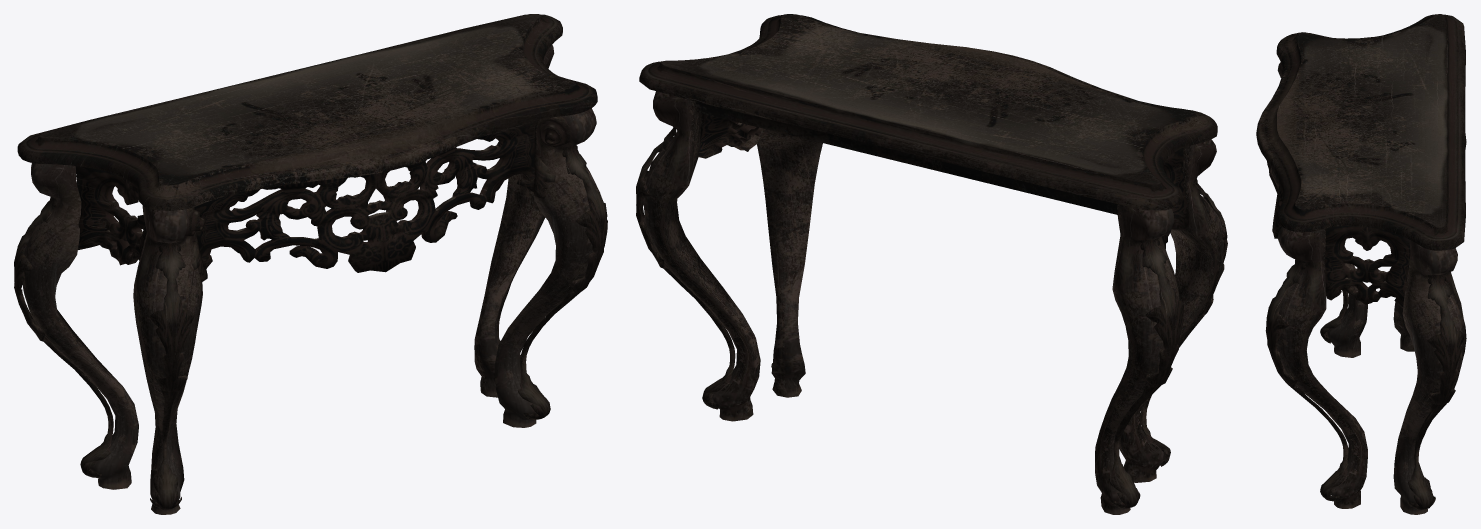
Rendered from ClassicConsole_01_2k.fbx.
The picture shows the model from 3 angles, left to right: view 1: azimuth 30°, elevation 25°; view 2: azimuth 150°, elevation 25°; view 3: azimuth 270°, elevation 25°; orthographic projection. The views are drawn at different scales.
Visible parts, largest first — view 1: ClassicConsole_01; view 2: ClassicConsole_01; view 3: ClassicConsole_01.
Boxes of the visible parts, x1,y1,x2,y2 form: ClassicConsole_01: (14, 14, 607, 514); ClassicConsole_01: (636, 14, 1227, 514); ClassicConsole_01: (1256, 14, 1466, 514).
Size of the model in its own units: 154 by 94.91 by 58.93.
1 material, 1 textured.
